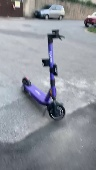beam: (19, 27, 68, 121)
